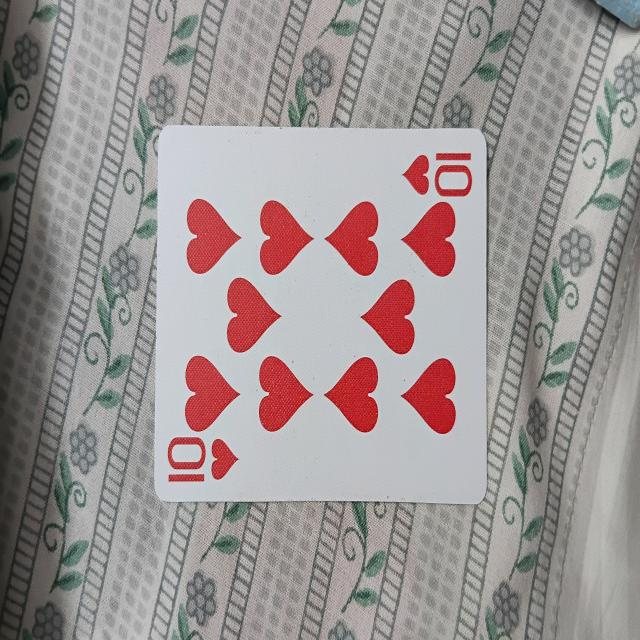10H: (157, 121, 487, 503)
